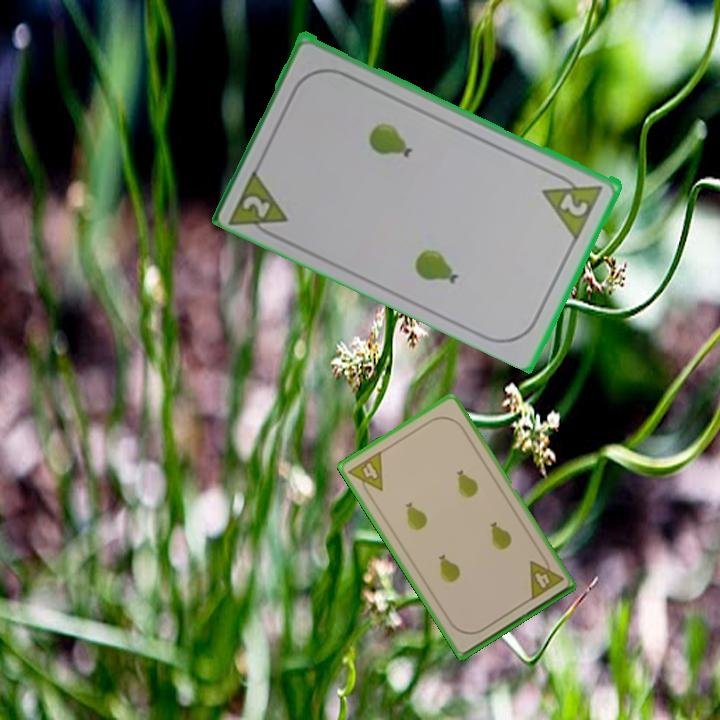2p: (226, 162, 292, 244), (539, 166, 607, 241)
4p: (345, 447, 386, 501), (525, 551, 566, 603)
